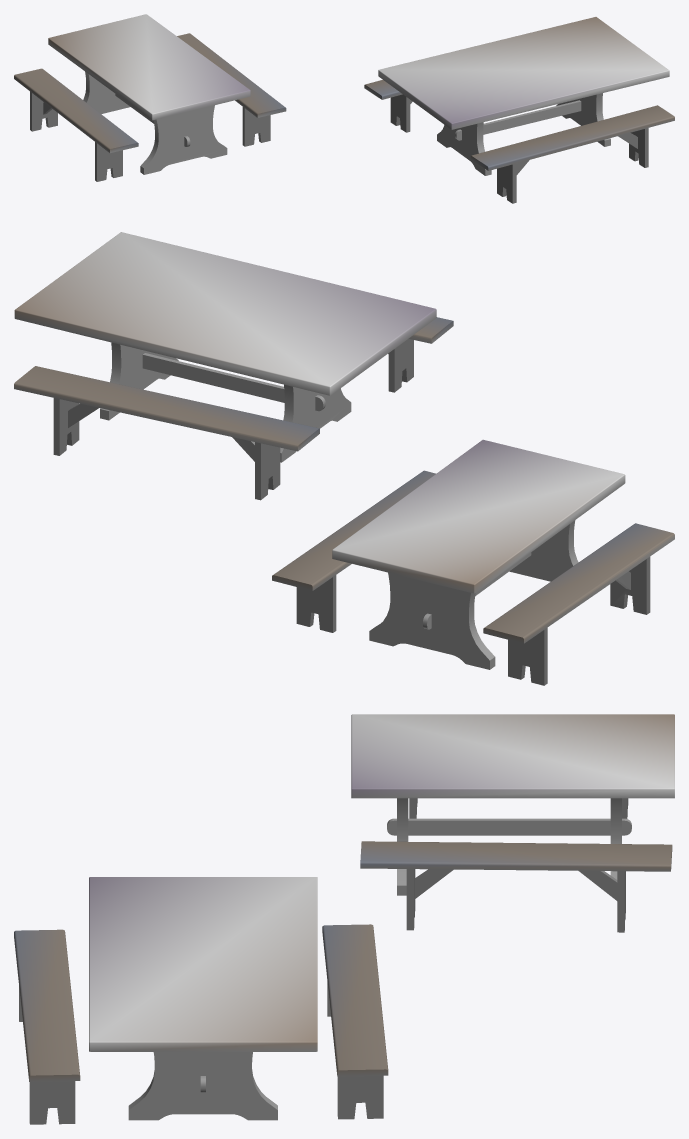
Rendered from tables.glb.
3 views of the same model, one above another, from view 1: azimuth 30°, elevation 25°; view 2: azimuth 150°, elevation 25°; view 3: azimuth 270°, elevation 25° (orthographic). The views are drawn at different scales.
Visible parts, largest first — view 1: TABLES; view 2: TABLES; view 3: TABLES.
Boxes of the visible parts, x1=… form: TABLES: x1=14, y1=14, x2=674, y2=203; TABLES: x1=14, y1=232, x2=674, y2=685; TABLES: x1=14, y1=714, x2=674, y2=1124.
Size of the model in its own units: 5.17 by 0.7667 by 4.04.
